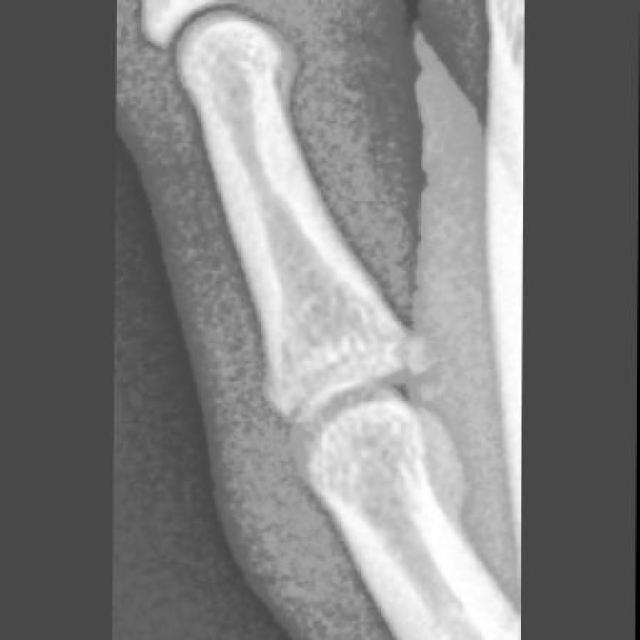Fracture: (379, 319, 441, 387)
